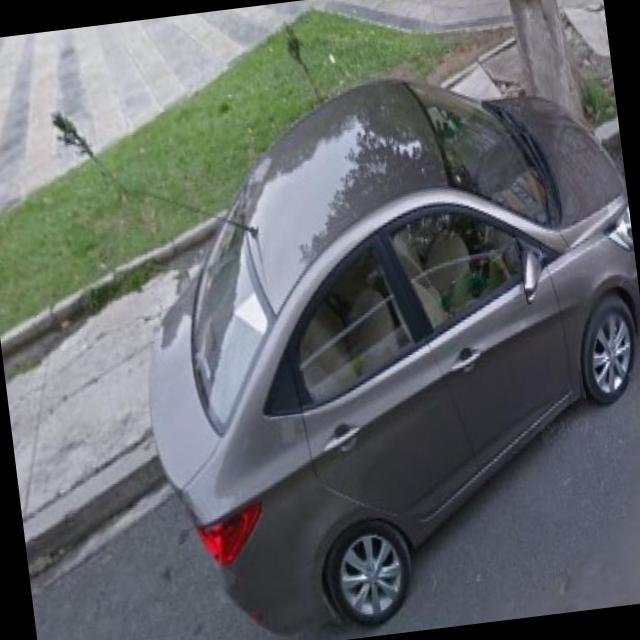car: (114, 66, 640, 640)
